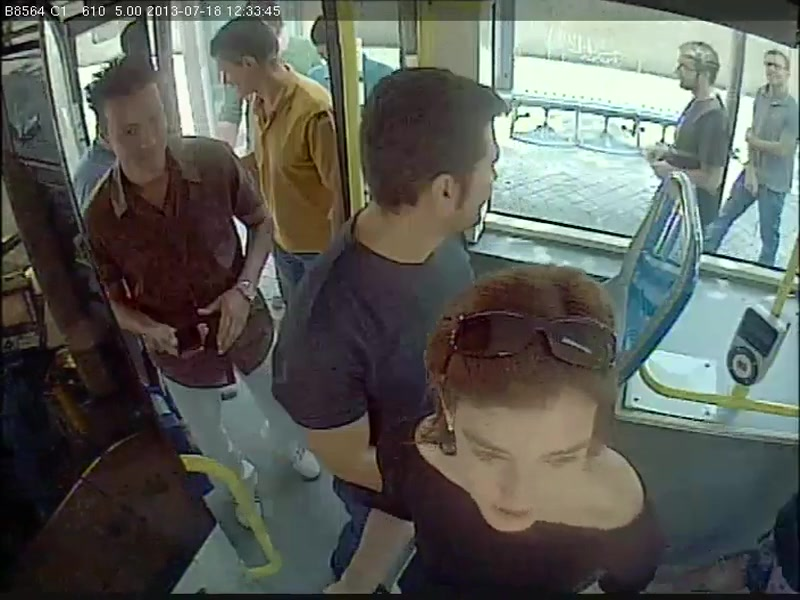Head: (423, 268, 624, 541), (355, 59, 516, 253), (81, 61, 179, 186), (200, 14, 282, 104)
